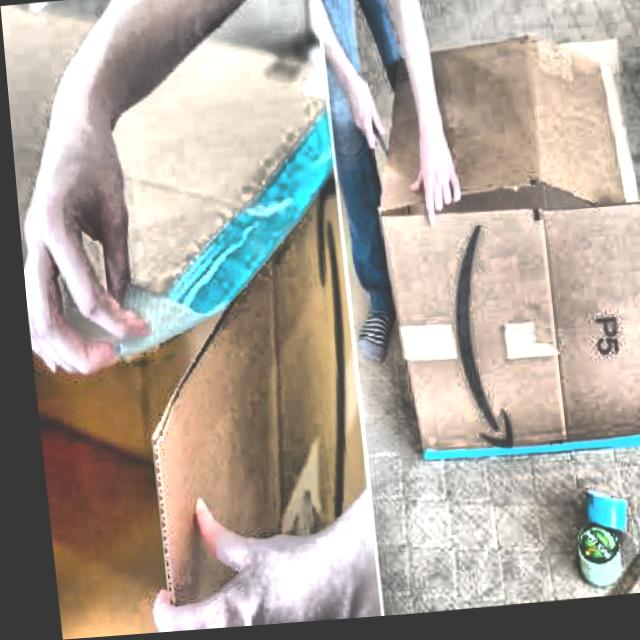Cardbox: (353, 16, 640, 482)
